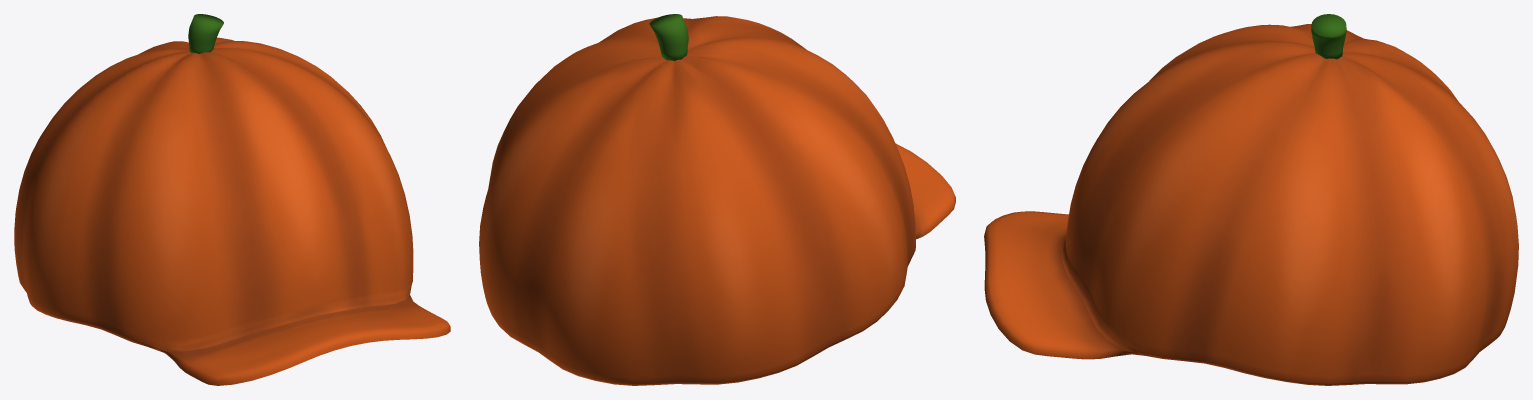
The model's file is Pumpkinhat.fbx.
The picture shows the model from 3 angles, left to right: view 1: azimuth 30°, elevation 25°; view 2: azimuth 150°, elevation 25°; view 3: azimuth 270°, elevation 25°; orthographic projection. The views are drawn at different scales.
Visible parts, largest first — view 1: PumpkinHat; view 2: PumpkinHat; view 3: PumpkinHat.
Boxes of the visible parts, x1,y1,x2,y2 form: PumpkinHat: [14, 14, 450, 385]; PumpkinHat: [479, 14, 955, 385]; PumpkinHat: [984, 14, 1518, 385].
Size of the model in its own units: 0.1677 by 0.1255 by 0.1979.
2 materials, 1 textured.
